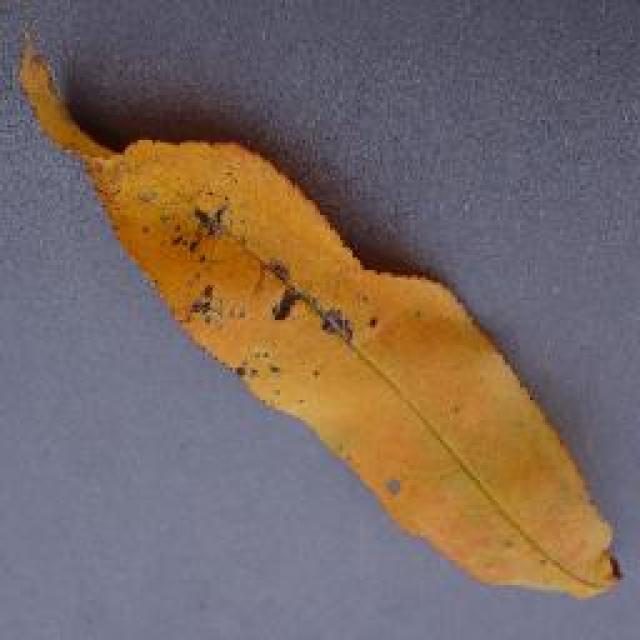Peach_Bacterial_Spot: (145, 165, 388, 397)
